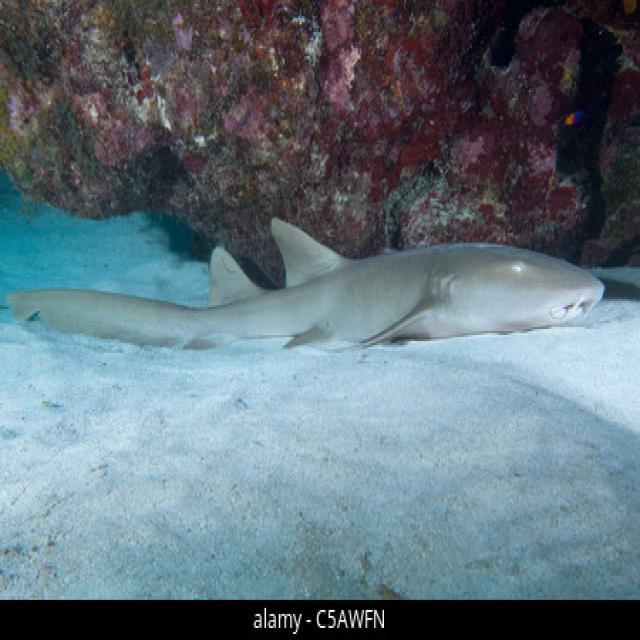Shark: (2, 202, 604, 382)
